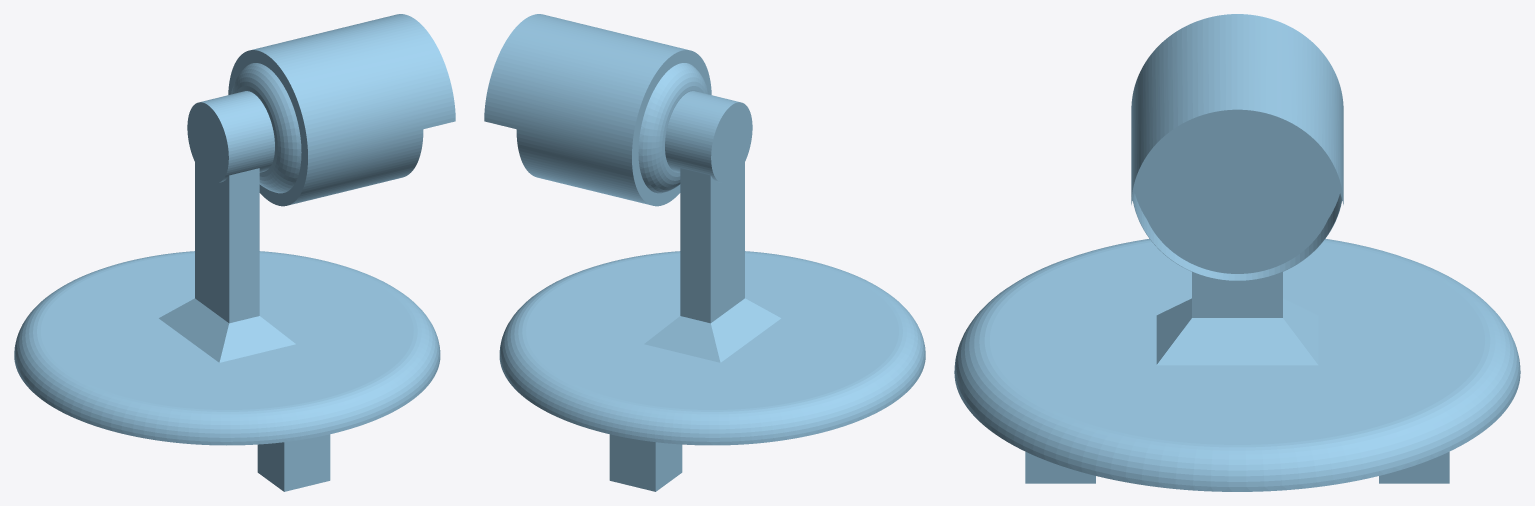
Rendered from Camera.dae.
The picture shows the model from 3 angles, left to right: view 1: azimuth 30°, elevation 25°; view 2: azimuth 150°, elevation 25°; view 3: azimuth 270°, elevation 25°; orthographic projection. The views are drawn at different scales.
Visible parts, largest first — view 1: 5dfbcc2dedccab14b4b413d4; view 2: 5dfbcc2dedccab14b4b413d4; view 3: 5dfbcc2dedccab14b4b413d4.
Part boxes in pixels (<box>): 5dfbcc2dedccab14b4b413d4: <box>14,14,455,491</box>; 5dfbcc2dedccab14b4b413d4: <box>484,14,925,491</box>; 5dfbcc2dedccab14b4b413d4: <box>954,14,1520,491</box>.
Size of the model in its own units: 0.0808 by 0.08 by 0.075.
